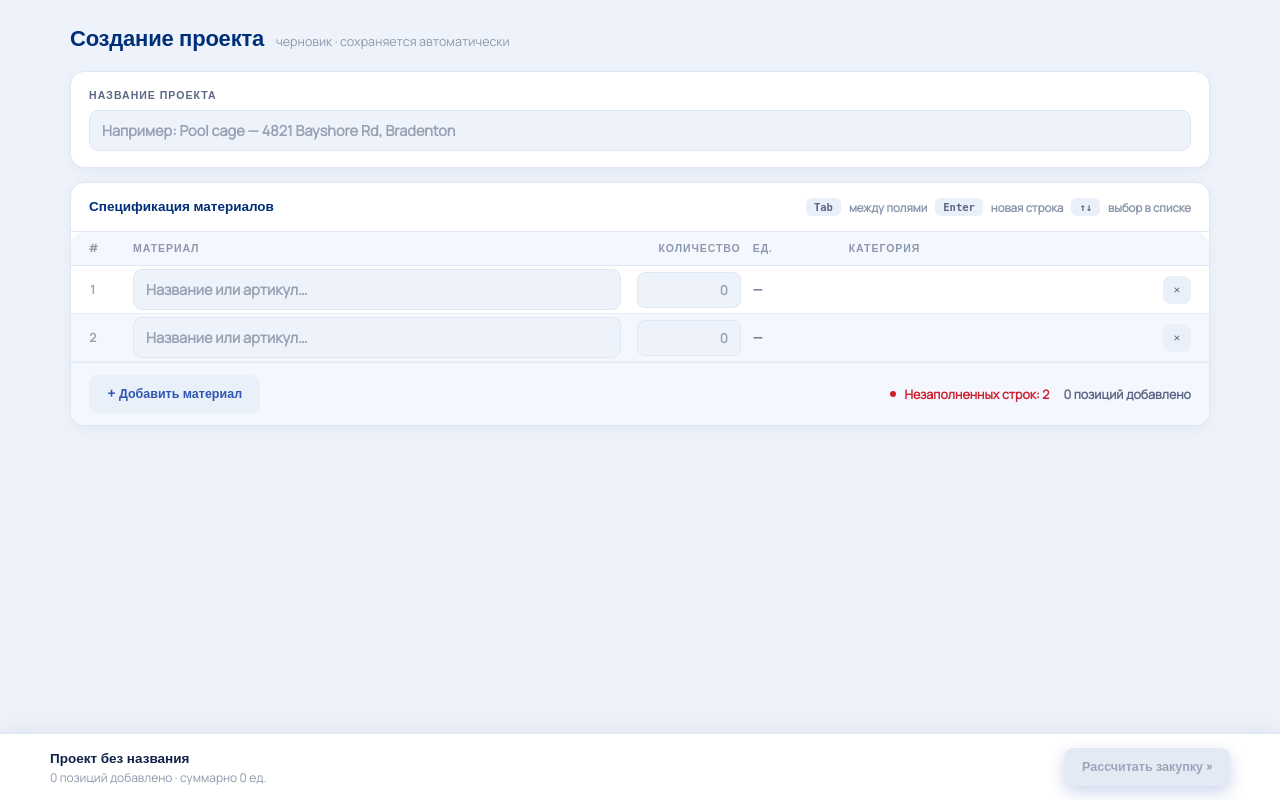
ProjectBuilderPage › disables "Рассчитать закупку" until a row has both material and quantity
Expected: the button "Рассчитать закупку »" is disabled, [1064, 748, 1230, 786]
Type "сетка" into the 1st dropdown with placeholder "Название или артикул…".
click(377, 290); type("сетка")  # box [133, 269, 621, 310]
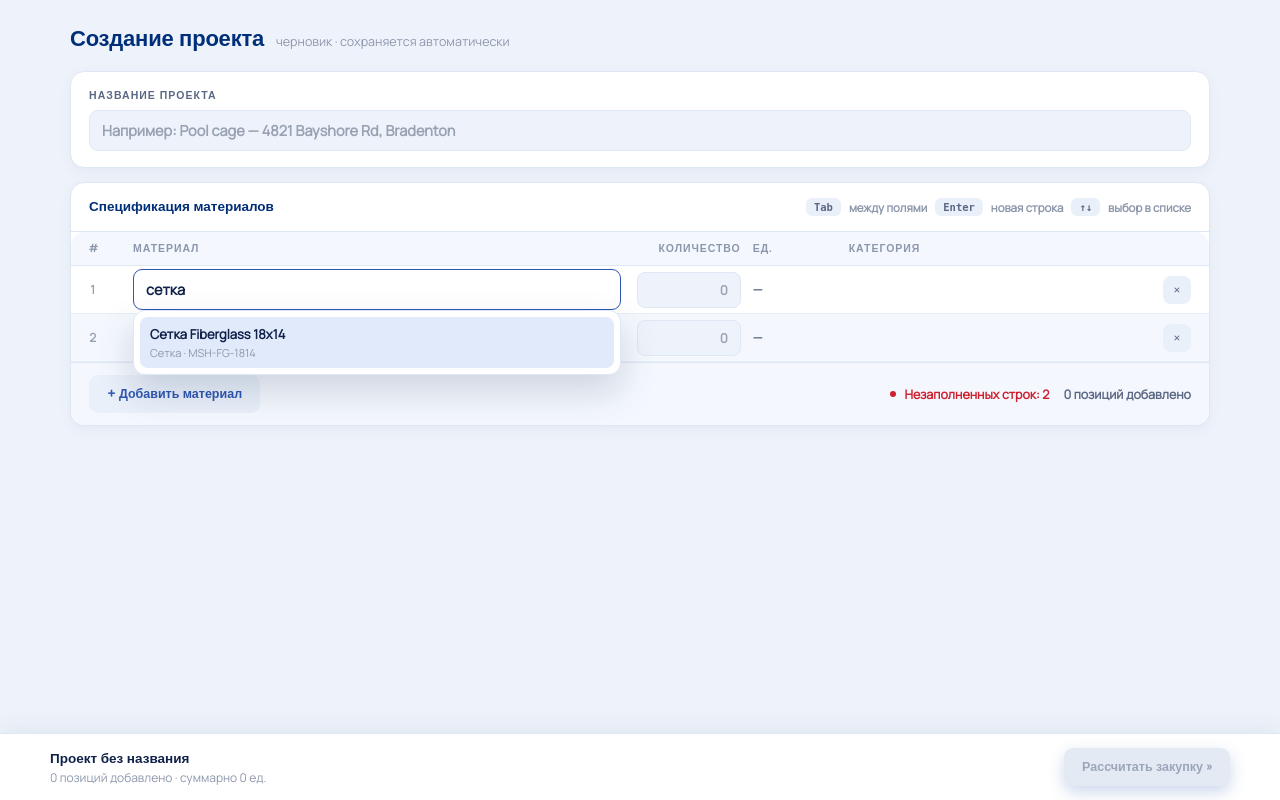
Click the text "Сетка Fiberglass 18x14".
click(218, 334)  # box [150, 325, 285, 343]
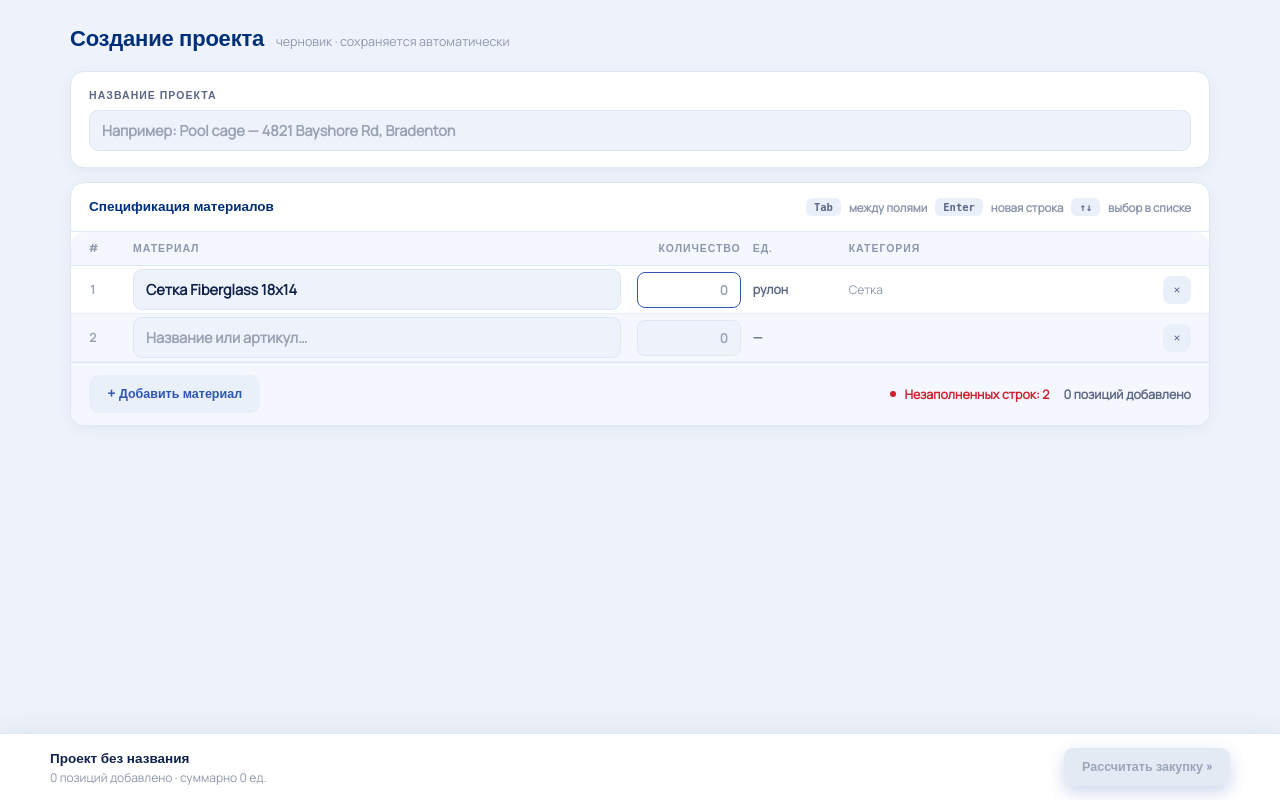
Expected: the button "Рассчитать закупку »" is disabled, [1064, 748, 1230, 786]
Type "5" into the number field with placeholder "0" next to "рулон".
click(689, 290); type("5")  # box [637, 272, 741, 308]
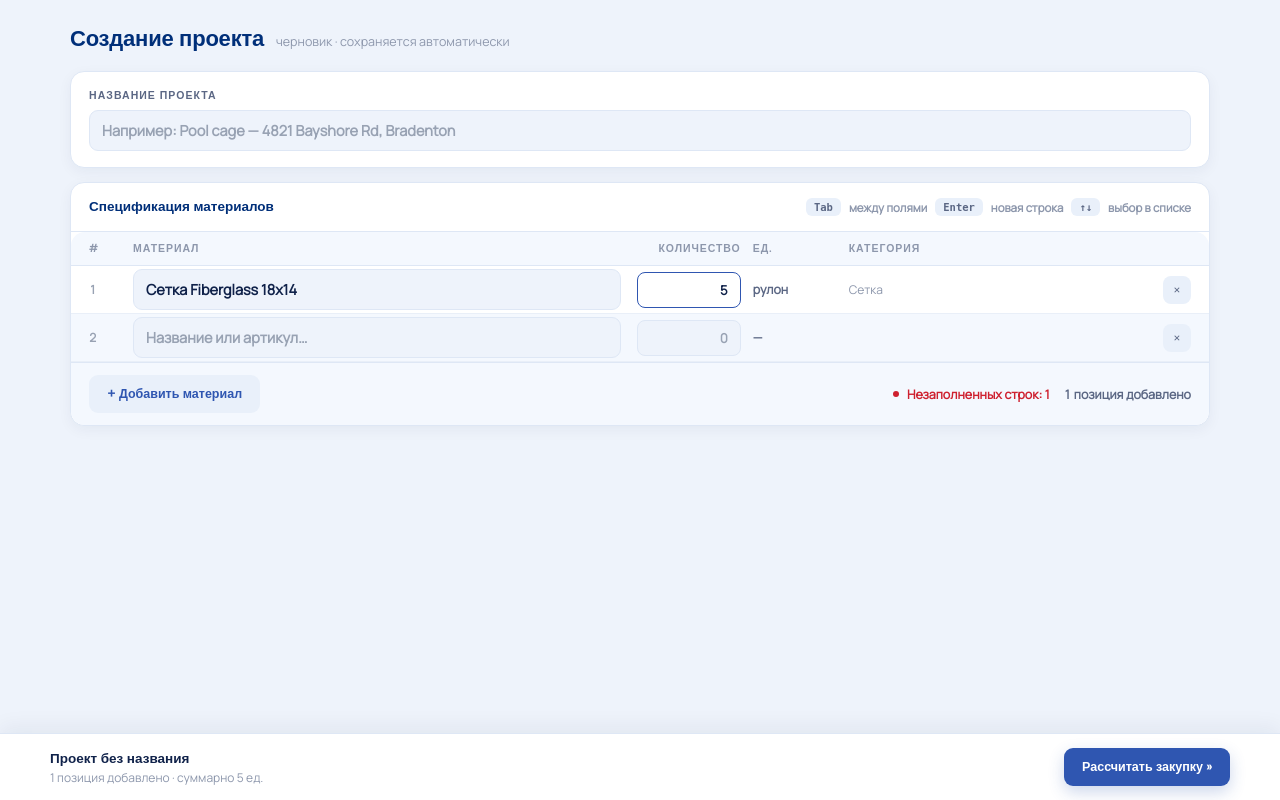
Expected: the button "Рассчитать закупку »" is enabled, [1064, 748, 1230, 786]
